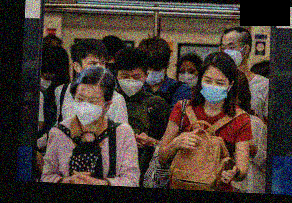with_mask: (70, 89, 103, 129), (199, 73, 228, 104), (116, 70, 144, 99), (218, 38, 243, 65), (175, 64, 199, 88), (144, 66, 164, 85), (39, 72, 52, 92)
